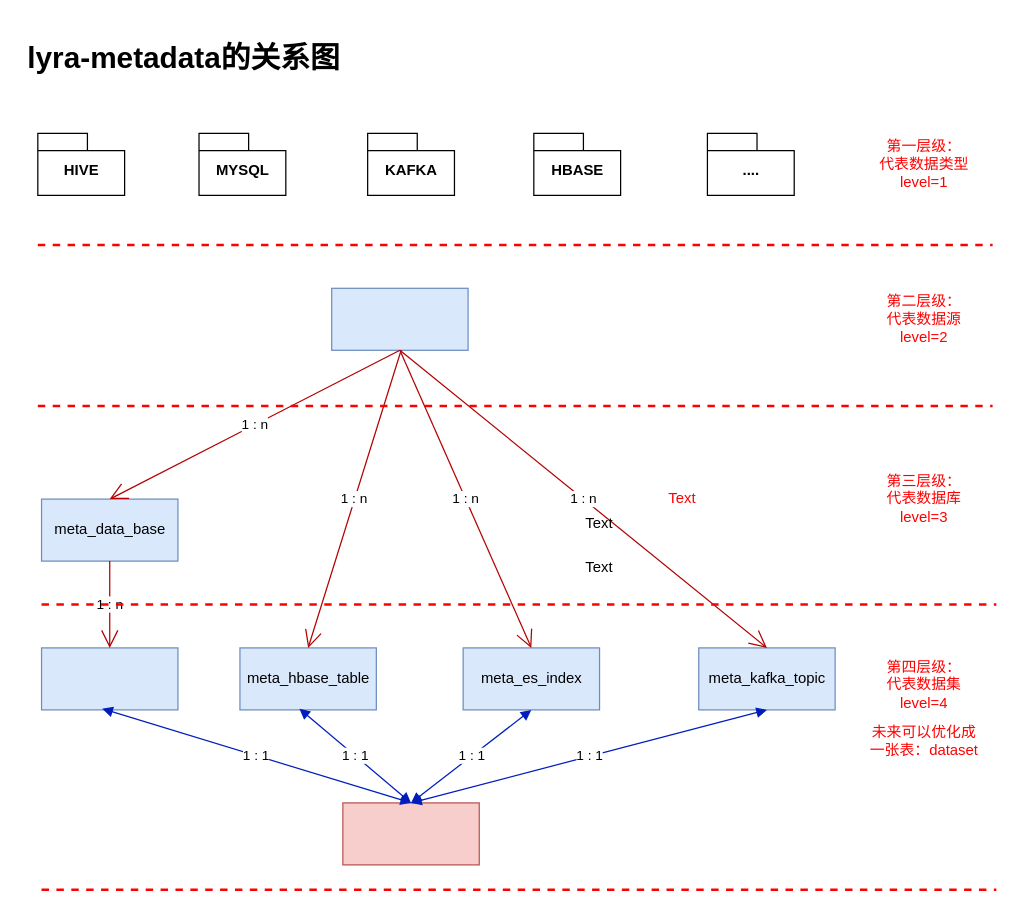
Some shapes in this 1019 by 913 pixel diagram are drawn without their labels. The shapes that lost their labels are listed below. From the top down, each one's centre as x and y in pixels, then its label:
At pixel 399 318: "meta_data_source".
At pixel 109 678: "meta_db_table".
At pixel 410 833: "meta_data_schema".
